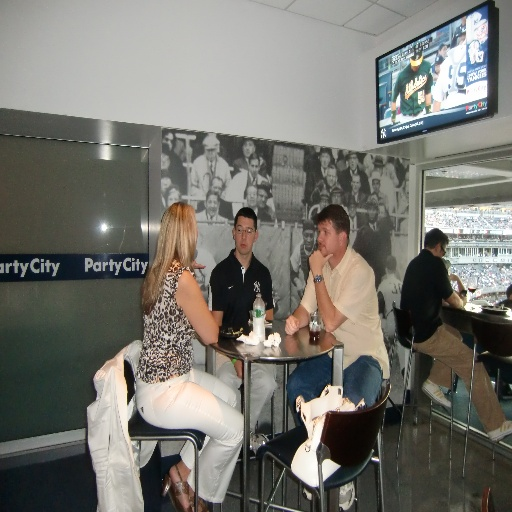hand: (307, 245, 335, 273), (283, 313, 300, 336), (189, 258, 206, 271), (234, 361, 243, 380), (459, 293, 467, 306), (449, 272, 456, 281)
